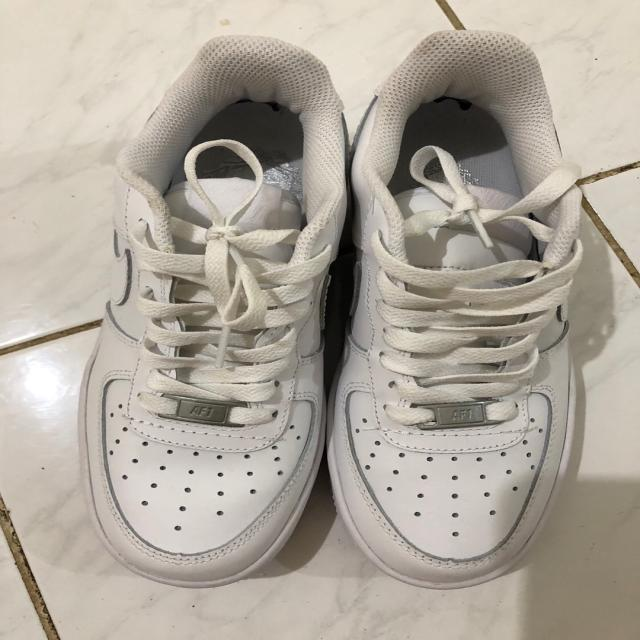nike fake air force: (67, 26, 352, 592), (320, 29, 595, 566)
